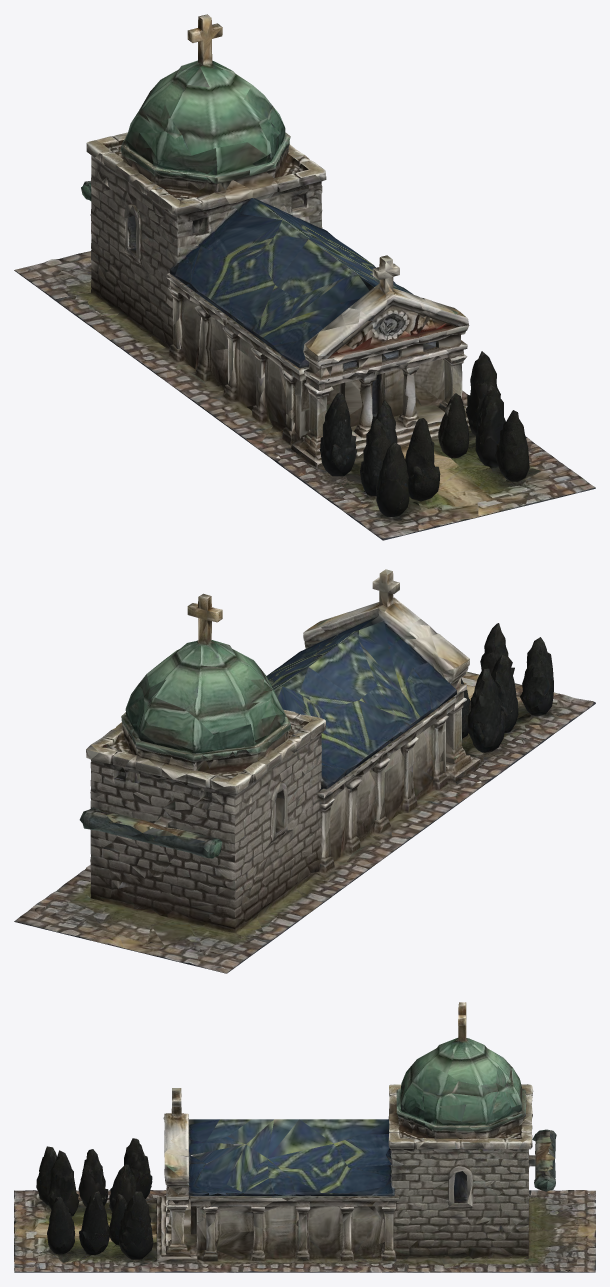
Rendered from cappella.glb.
3 renders of one model, top to bottom at view 1: azimuth 30°, elevation 25°; view 2: azimuth 150°, elevation 25°; view 3: azimuth 270°, elevation 25°, orthographic. The views are drawn at different scales.
Size of the model in its own units: 1 by 1.3 by 3.
1 material, 1 textured.
